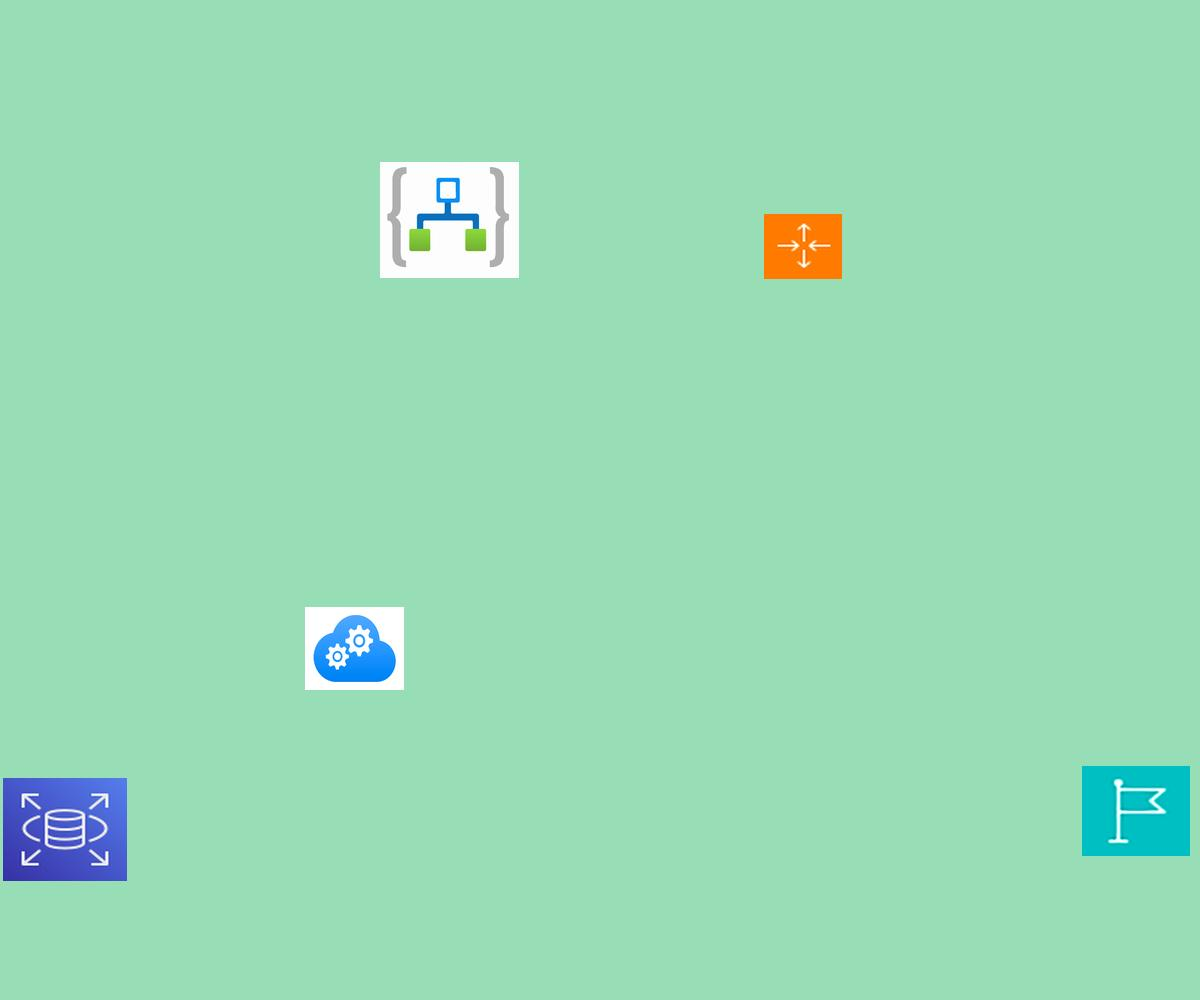AWS-RDS: (3, 778, 127, 881)
AWS-Region: (1082, 766, 1190, 856)
AWS-Scaling-group: (764, 214, 842, 279)
Azure_cloud_services: (305, 607, 404, 690)
Azure_integration-204-Logic-Apps: (380, 162, 519, 278)
